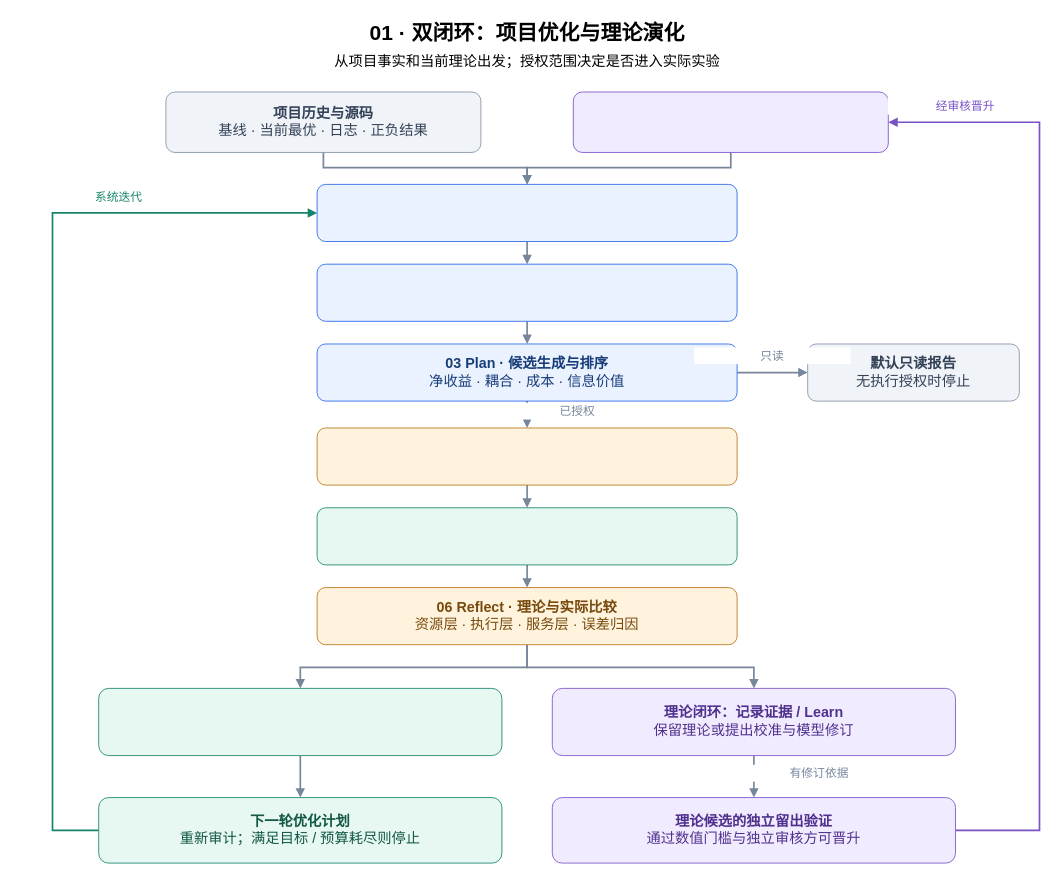
Some shapes in this 1061 by 878 pixel diagram are drawn without their labels. The shapes that lost their labels are listed below. From the top down, each one's centre as x and y in pixels, then its label:
At pixel 730 121: "当前使用者理论库 Mₖ 初始理论 · 校准 · 经验 · 适用域".
At pixel 526 213: "01 Review · 项目审计 确定约束、可比历史、当前 parent".
At pixel 526 292: "02 Diagnose · 理论诊断 知识路由 · 资源边界 · 竞争假设".
At pixel 526 456: "04 Freeze · 冻结事前预测 绑定 parent / context / theory version".
At pixel 526 536: "05 Execute · 实施与独立评价 正确性 → 微基准 → 服务级测量".
At pixel 300 722: "系统闭环：更新最佳版本 Sₖ 接受 / 拒绝 / 未决；重算当前瓶颈".
